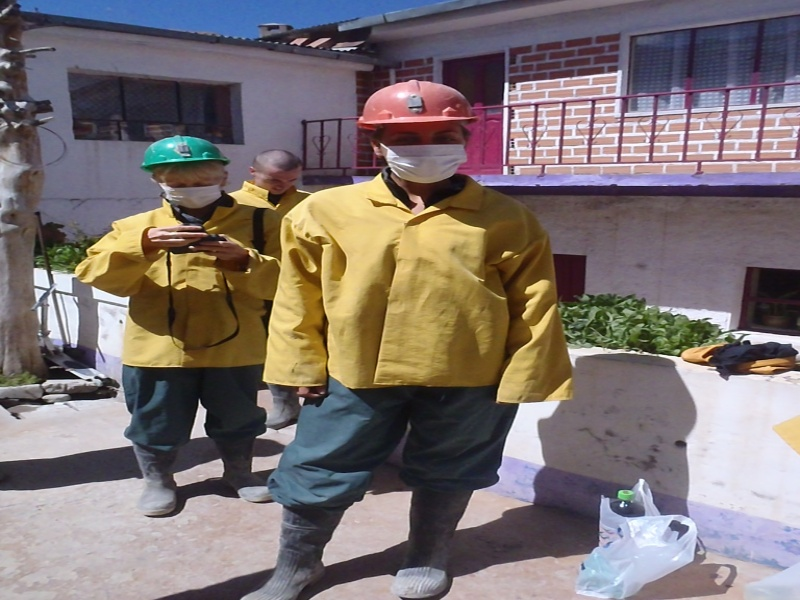helmet: (356, 83, 480, 126), (140, 135, 230, 166)
jacket: (265, 187, 574, 392), (115, 208, 275, 368)
